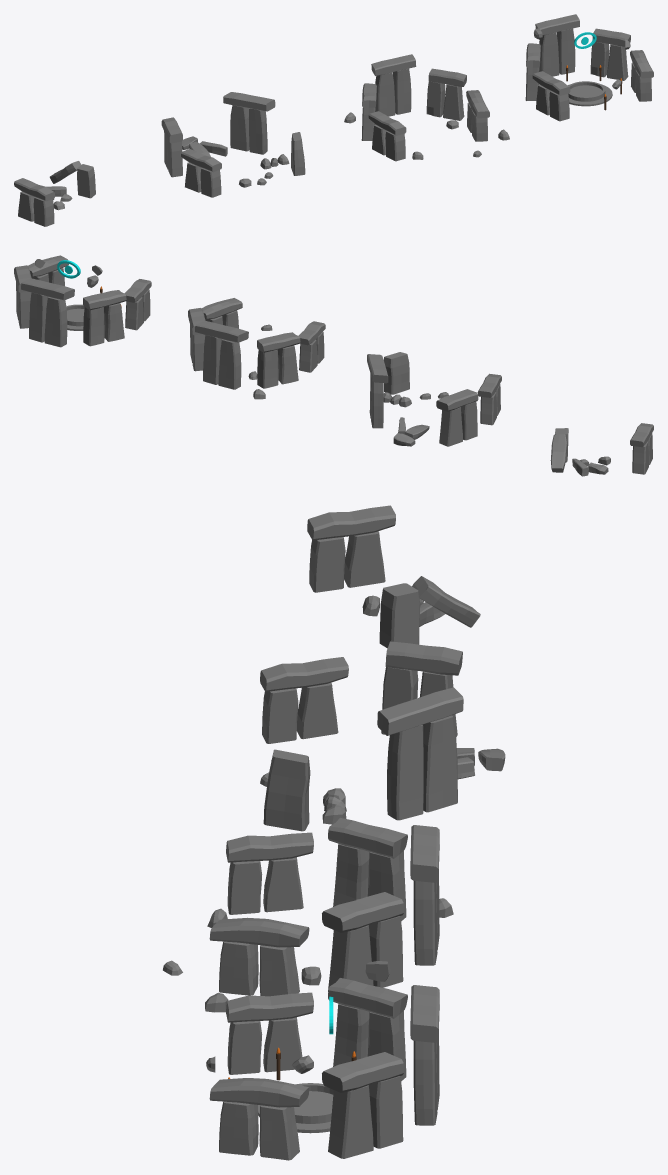
File: stonhenge_lvl4.fbx
3 renders of one model, top to bottom at view 1: azimuth 30°, elevation 25°; view 2: azimuth 150°, elevation 25°; view 3: azimuth 270°, elevation 25°, orthographic. The views are drawn at different scales.
Parts seen in each view (by area): view 1: stonehenge_lvl04, stonehenge_lvl03, stonehenge_lvl02, stonehenge_lvl01; view 2: stonehenge_lvl04, stonehenge_lvl03, stonehenge_lvl02, stonehenge_lvl01; view 3: stonehenge_lvl04, stonehenge_lvl03, stonehenge_lvl02, stonehenge_lvl01.
Part boxes in pixels (box(x1,y1,x2,y2)): stonehenge_lvl04: box(525, 14, 653, 121); stonehenge_lvl03: box(344, 54, 509, 161); stonehenge_lvl02: box(161, 92, 305, 197); stonehenge_lvl01: box(14, 161, 95, 226); stonehenge_lvl04: box(14, 255, 151, 347); stonehenge_lvl03: box(188, 298, 325, 399); stonehenge_lvl02: box(367, 352, 501, 446); stonehenge_lvl01: box(550, 423, 653, 476); stonehenge_lvl04: box(209, 978, 439, 1160); stonehenge_lvl03: box(163, 817, 453, 1012); stonehenge_lvl02: box(260, 641, 505, 831); stonehenge_lvl01: box(307, 505, 480, 648).
Size of the model in its own units: 8944 by 848 by 2187.
